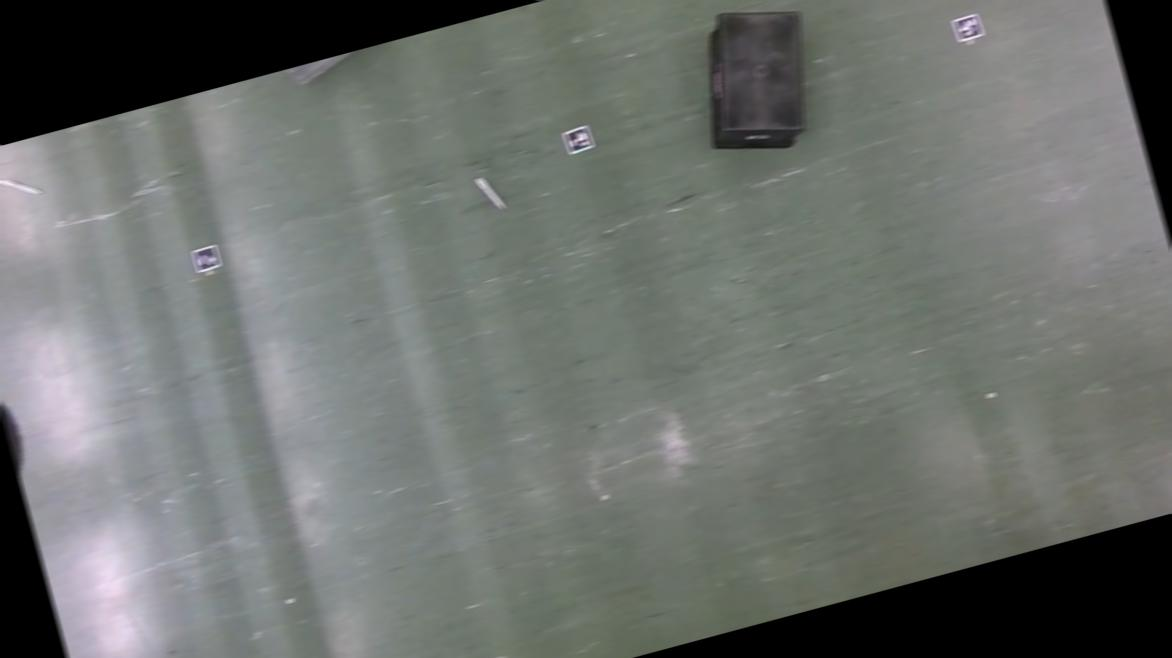probes: (475, 174, 504, 216), (3, 172, 41, 203)
rako: (679, 0, 833, 168)
